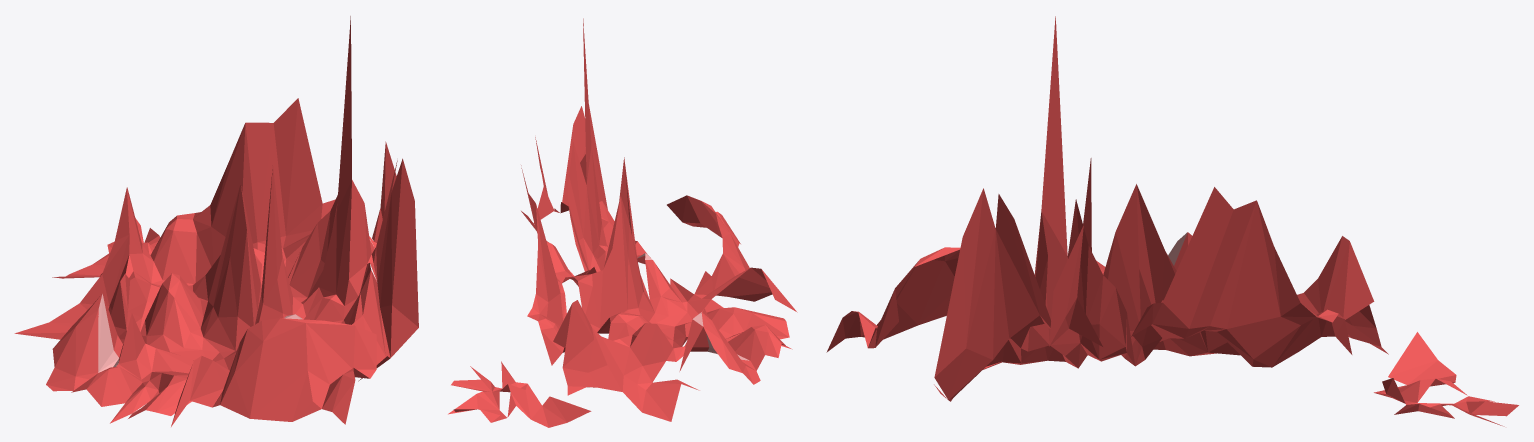
The model's file is RedMountains.glb.
3 views of the same model, side by side, from view 1: azimuth 30°, elevation 25°; view 2: azimuth 150°, elevation 25°; view 3: azimuth 270°, elevation 25° (orthographic). The views are drawn at different scales.
Parts seen in each view (by area): view 1: Plane.001; view 2: Plane.001; view 3: Plane.001.
Part boxes in pixels (left/top/right/bottom): Plane.001: left=14, top=16, right=418, bottom=426; Plane.001: left=448, top=18, right=797, bottom=427; Plane.001: left=826, top=16, right=1518, bottom=426.
Size of the model in its own units: 2.76 by 2.98 by 4.3.
